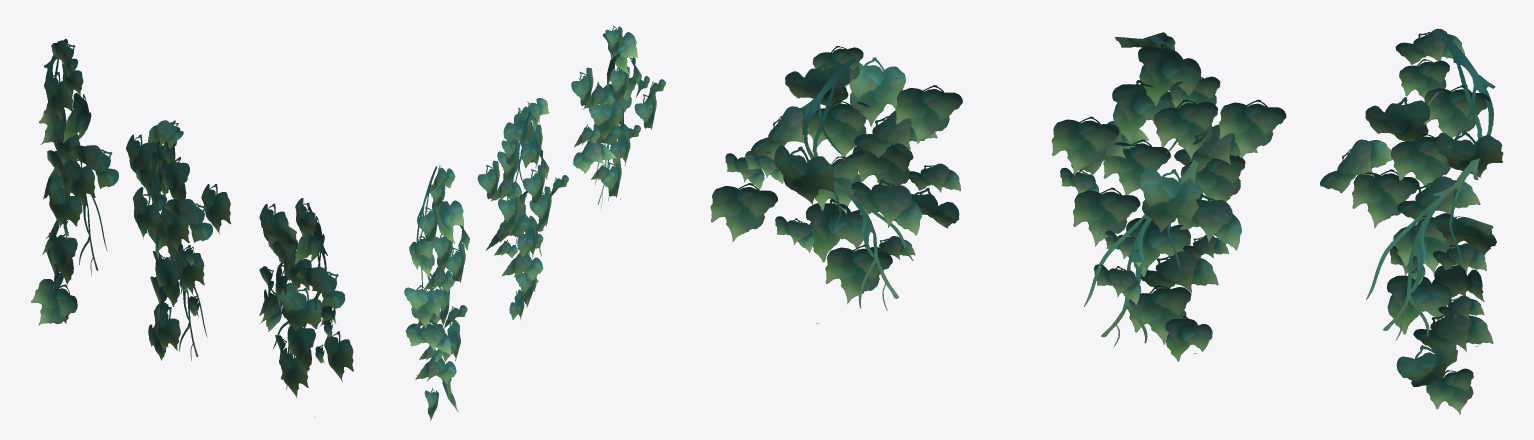
Rendered from climbPlants.fbx.
The picture shows the model from 3 angles, left to right: view 1: azimuth 30°, elevation 25°; view 2: azimuth 150°, elevation 25°; view 3: azimuth 270°, elevation 25°; orthographic projection. The views are drawn at different scales.
Visible parts, largest first — view 1: Climbing_Plant_Var_1, Climbing_Plant_Var_2, Climbing_Plant_Var_3; view 2: Climbing_Plant_Var_2, Climbing_Plant_Var_1, Climbing_Plant_Var_3; view 3: Climbing_Plant_Var_1, Climbing_Plant_Var_2, Climbing_Plant_Var_3.
Part boxes in pixels (x1=…): Climbing_Plant_Var_1: x1=126, y1=120, x2=230, y2=361; Climbing_Plant_Var_2: x1=31, y1=38, x2=118, y2=325; Climbing_Plant_Var_3: x1=259, y1=198, x2=353, y2=417; Climbing_Plant_Var_2: x1=404, y1=164, x2=469, y2=420; Climbing_Plant_Var_1: x1=477, y1=98, x2=568, y2=319; Climbing_Plant_Var_3: x1=571, y1=25, x2=665, y2=209; Climbing_Plant_Var_1: x1=1051, y1=32, x2=1286, y2=361; Climbing_Plant_Var_2: x1=1320, y1=28, x2=1503, y2=414; Climbing_Plant_Var_3: x1=710, y1=46, x2=962, y2=323.
Bounding box in the file's own units: 162 × 637 × 1159.
